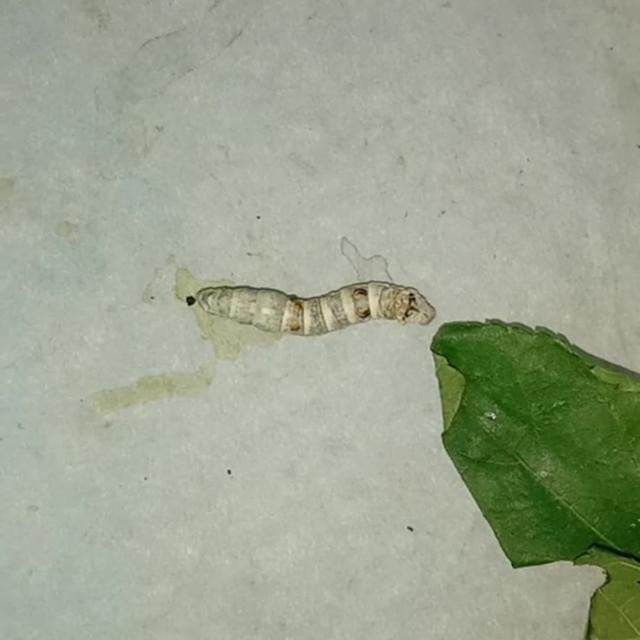Grasserie: (166, 205, 454, 420)
